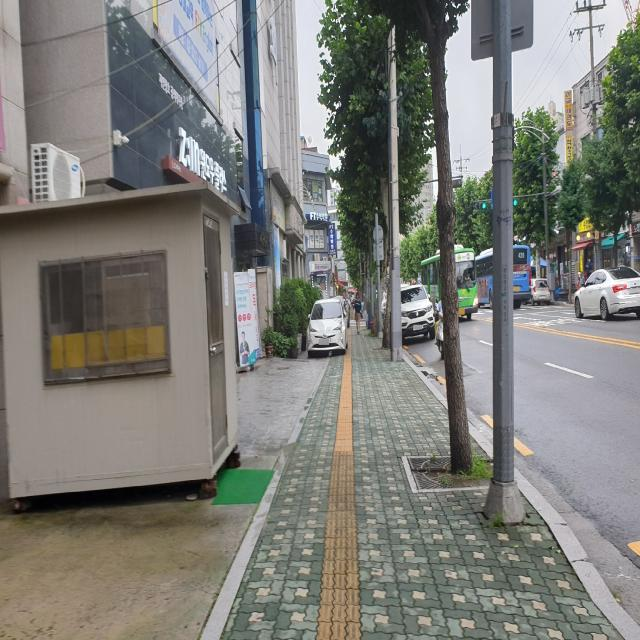car: (574, 266, 640, 320), (306, 299, 348, 357), (400, 284, 435, 343), (522, 278, 551, 306)
motorbike: (435, 300, 444, 360)
